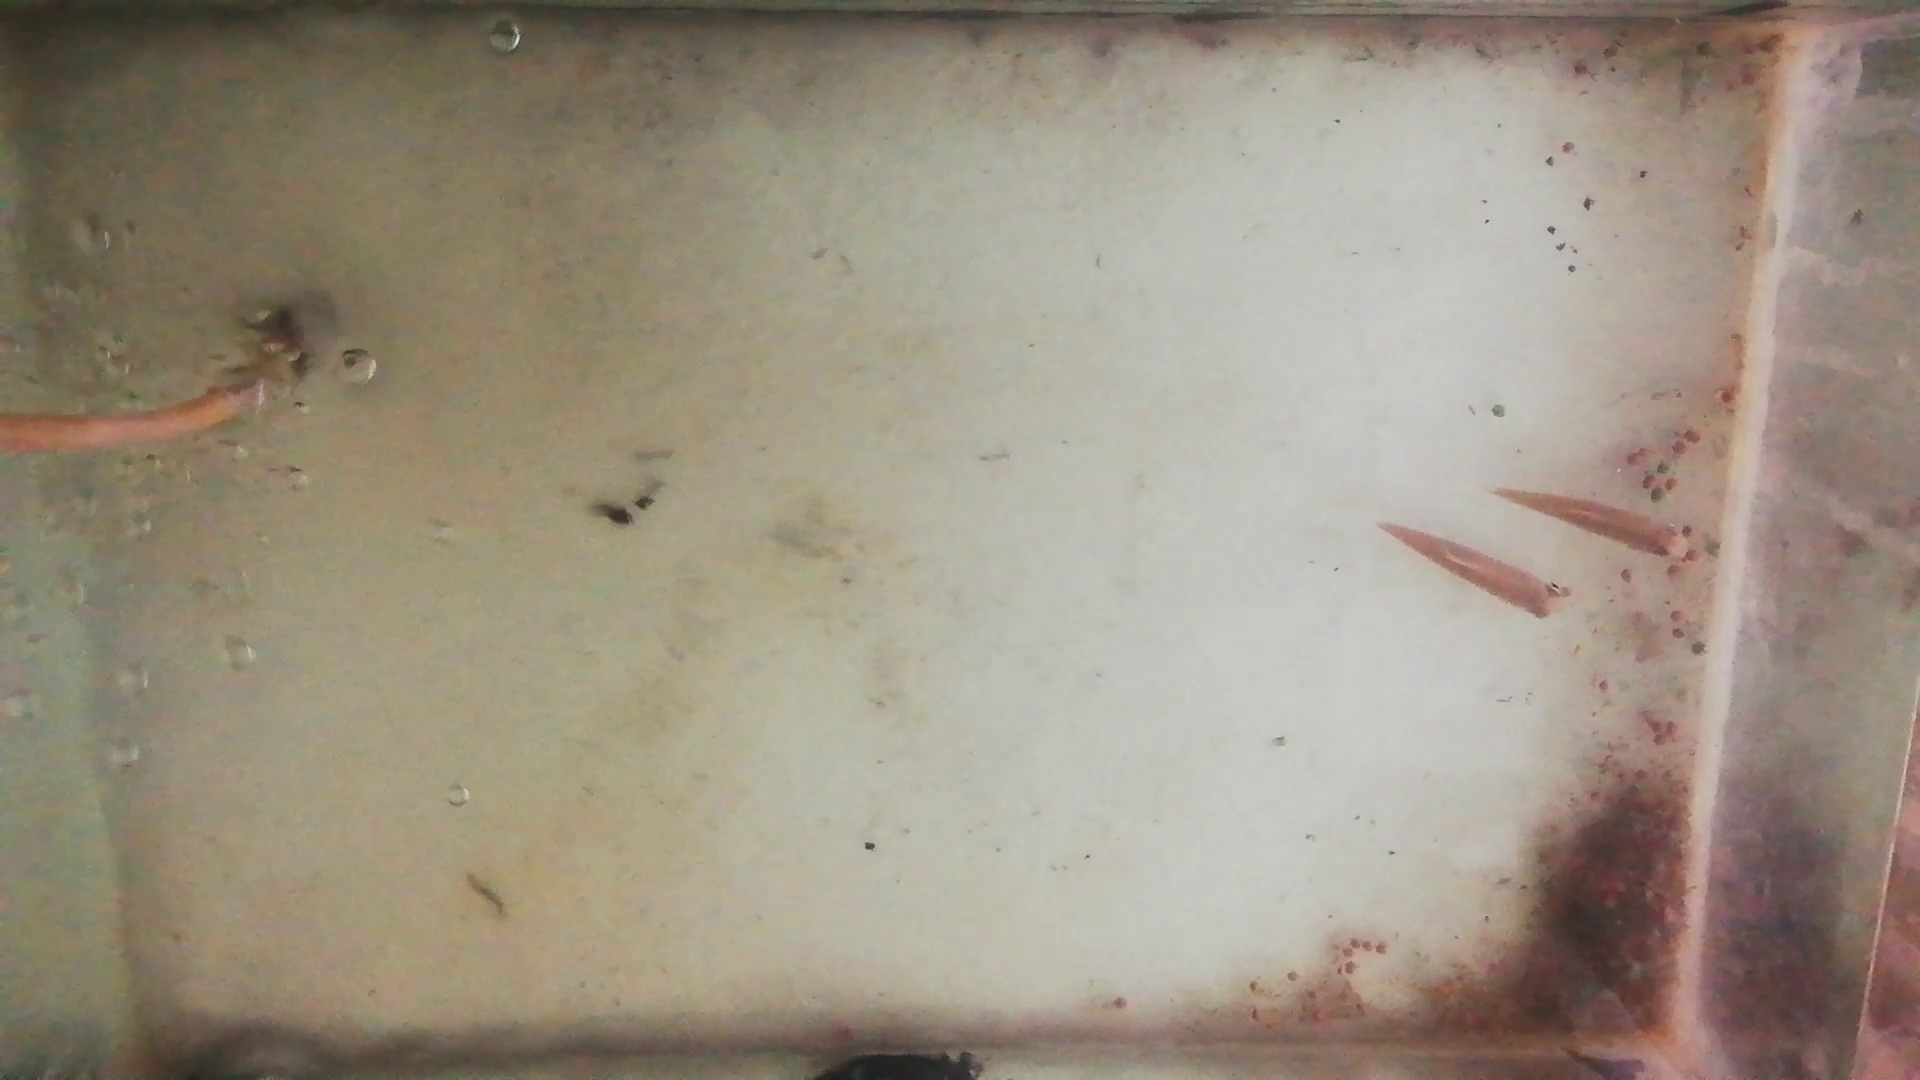fish: (1381, 517, 1567, 618), (1497, 483, 1696, 562)
